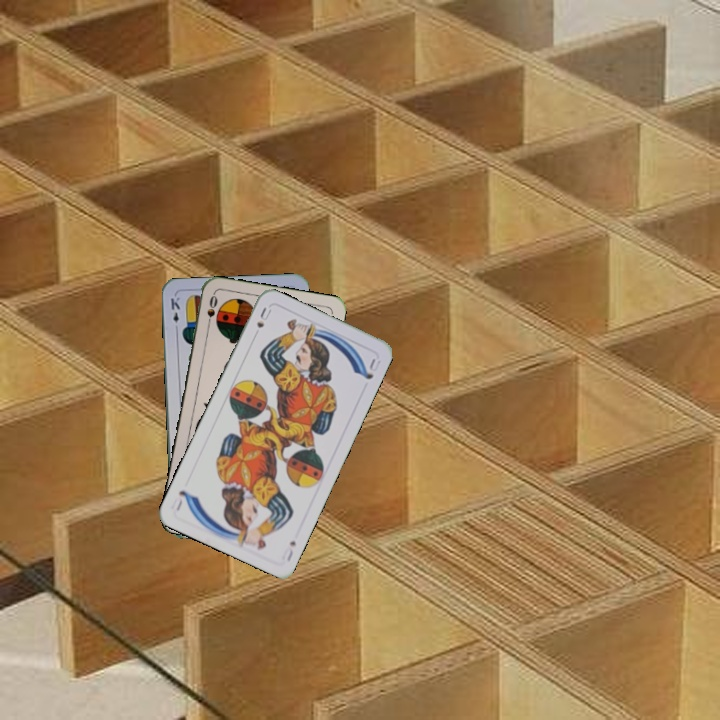EK: (167, 293, 182, 334)
SO: (203, 291, 220, 331)
SU: (252, 303, 274, 331), (277, 537, 298, 564)
